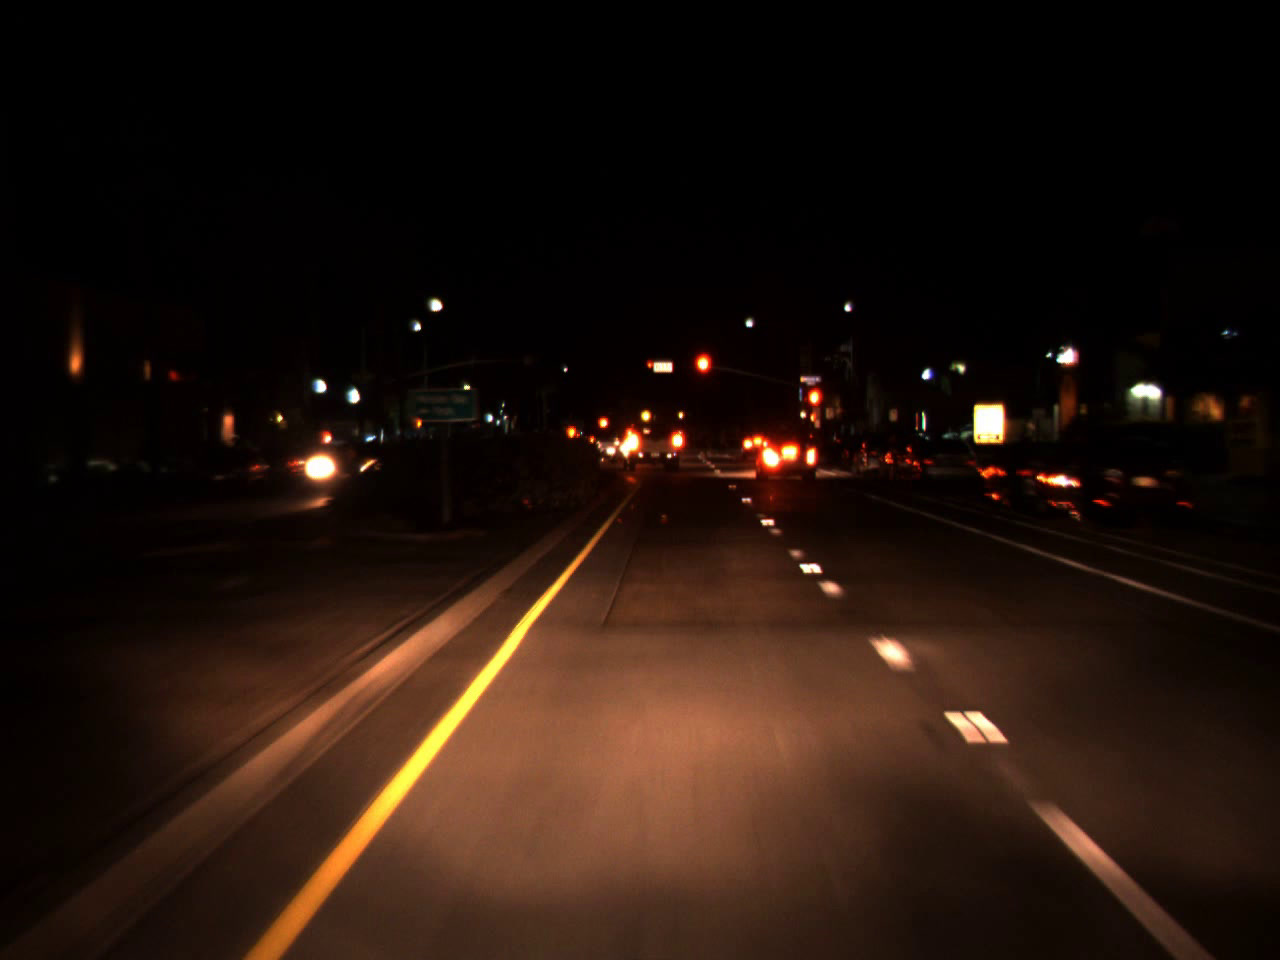stop: (692, 349, 714, 397), (804, 383, 825, 431), (646, 361, 655, 374)
